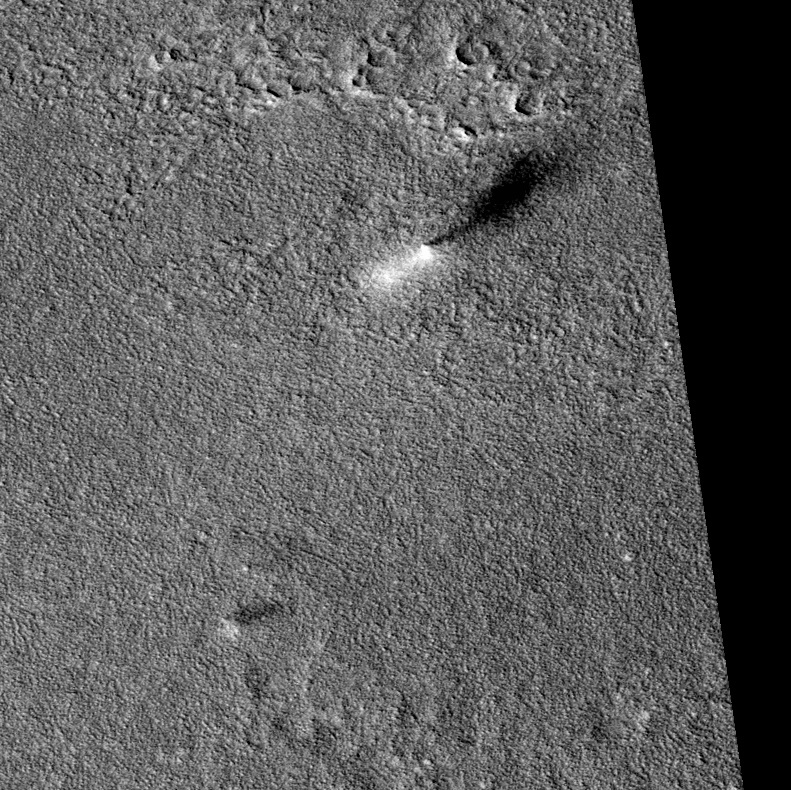dust_devil: (360, 146, 579, 291), (219, 596, 298, 640)
